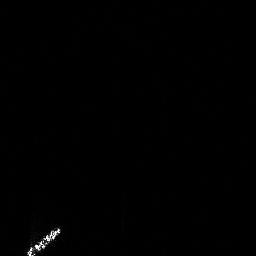ship: (22, 220, 64, 256)
